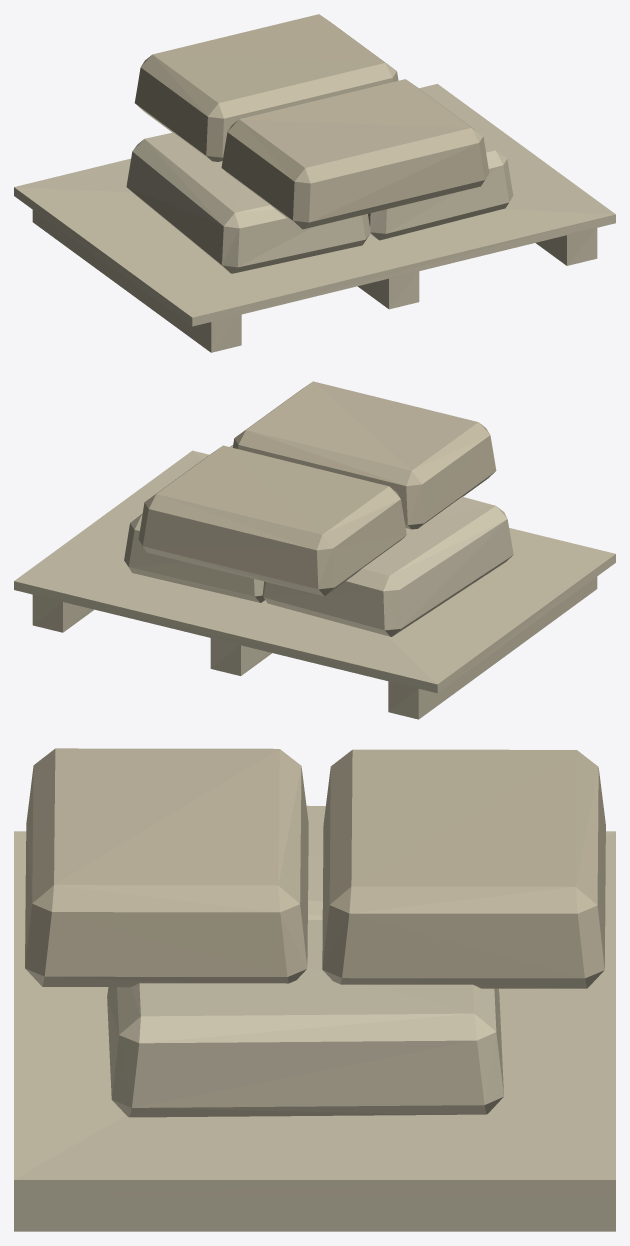
The model's file is sack-stack-01.glb.
3 renders of one model, top to bottom at view 1: azimuth 30°, elevation 25°; view 2: azimuth 150°, elevation 25°; view 3: azimuth 270°, elevation 25°, orthographic. The views are drawn at different scales.
Parts seen in each view (by area): view 1: sack_stack_01; view 2: sack_stack_01; view 3: sack_stack_01.
Boxes of the visible parts, x1,y1,x2,y2 form: sack_stack_01: (14, 14, 615, 352); sack_stack_01: (14, 381, 615, 719); sack_stack_01: (14, 748, 615, 1231).
Size of the model in its own units: 1.26 by 0.4248 by 0.9168.
